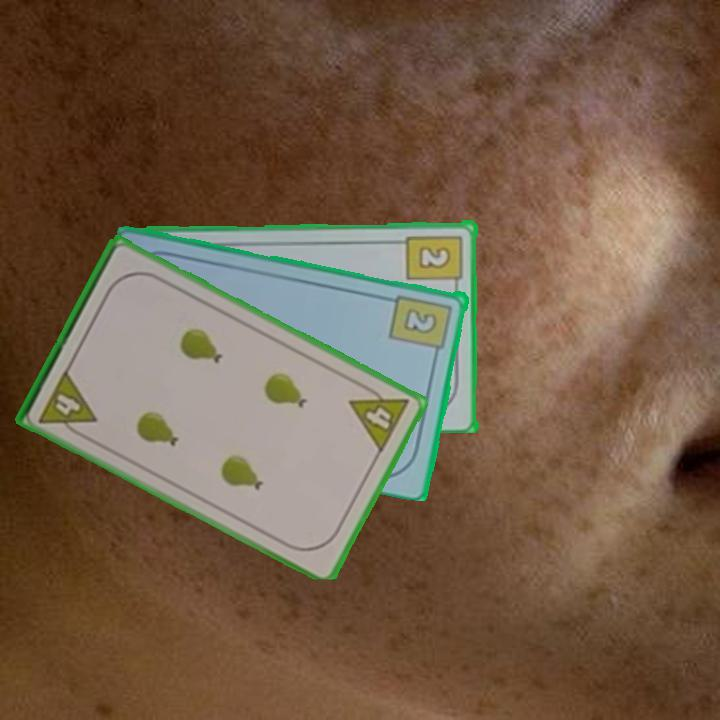2b: (387, 290, 455, 361), (404, 231, 466, 292)
4p: (345, 378, 413, 456), (35, 365, 100, 442)
